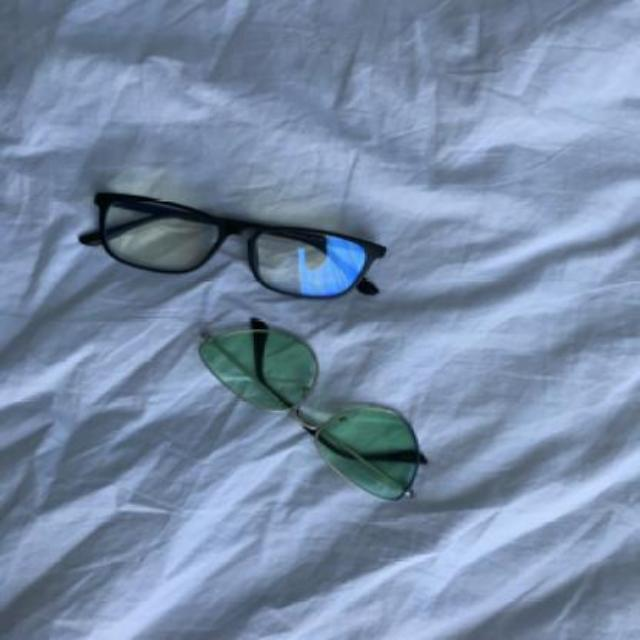glasses: (195, 318, 427, 504)
mask: (78, 188, 386, 298)
